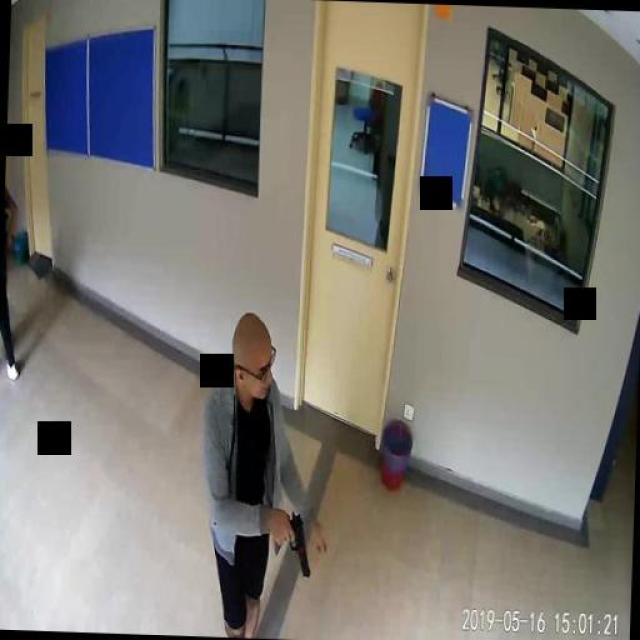gun: (275, 509, 310, 579)
